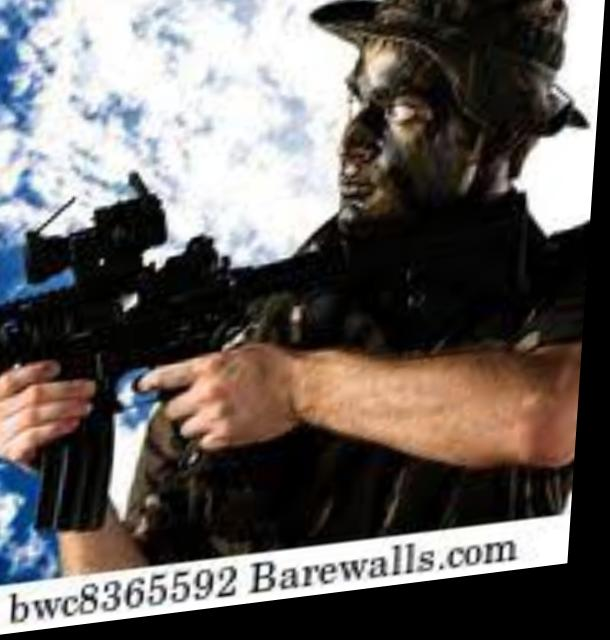other: (245, 0, 607, 566)
